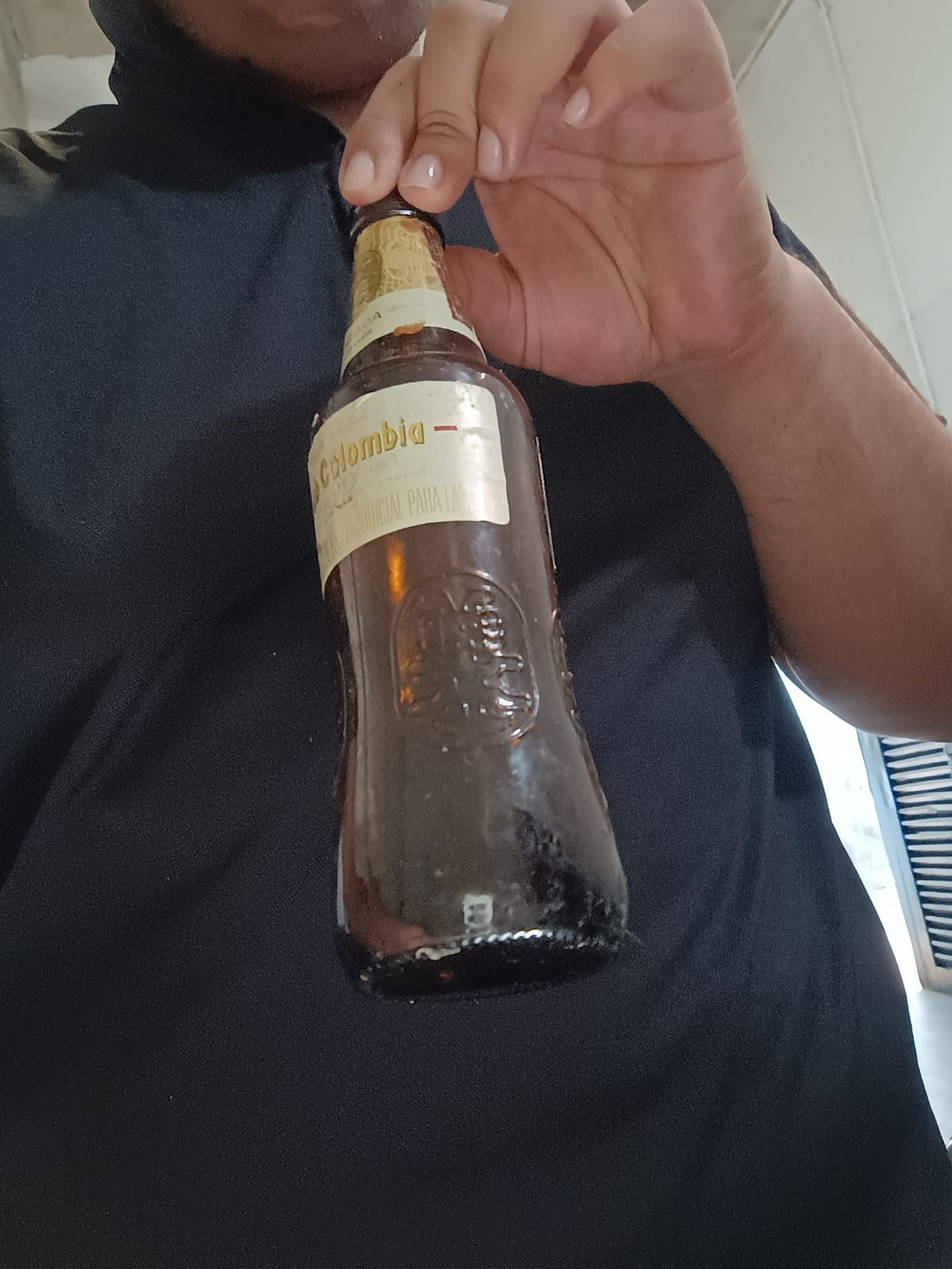Vidrio: (301, 182, 634, 1005)
